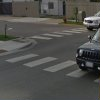crosswalk: (4, 52, 100, 83), (28, 26, 88, 40)
